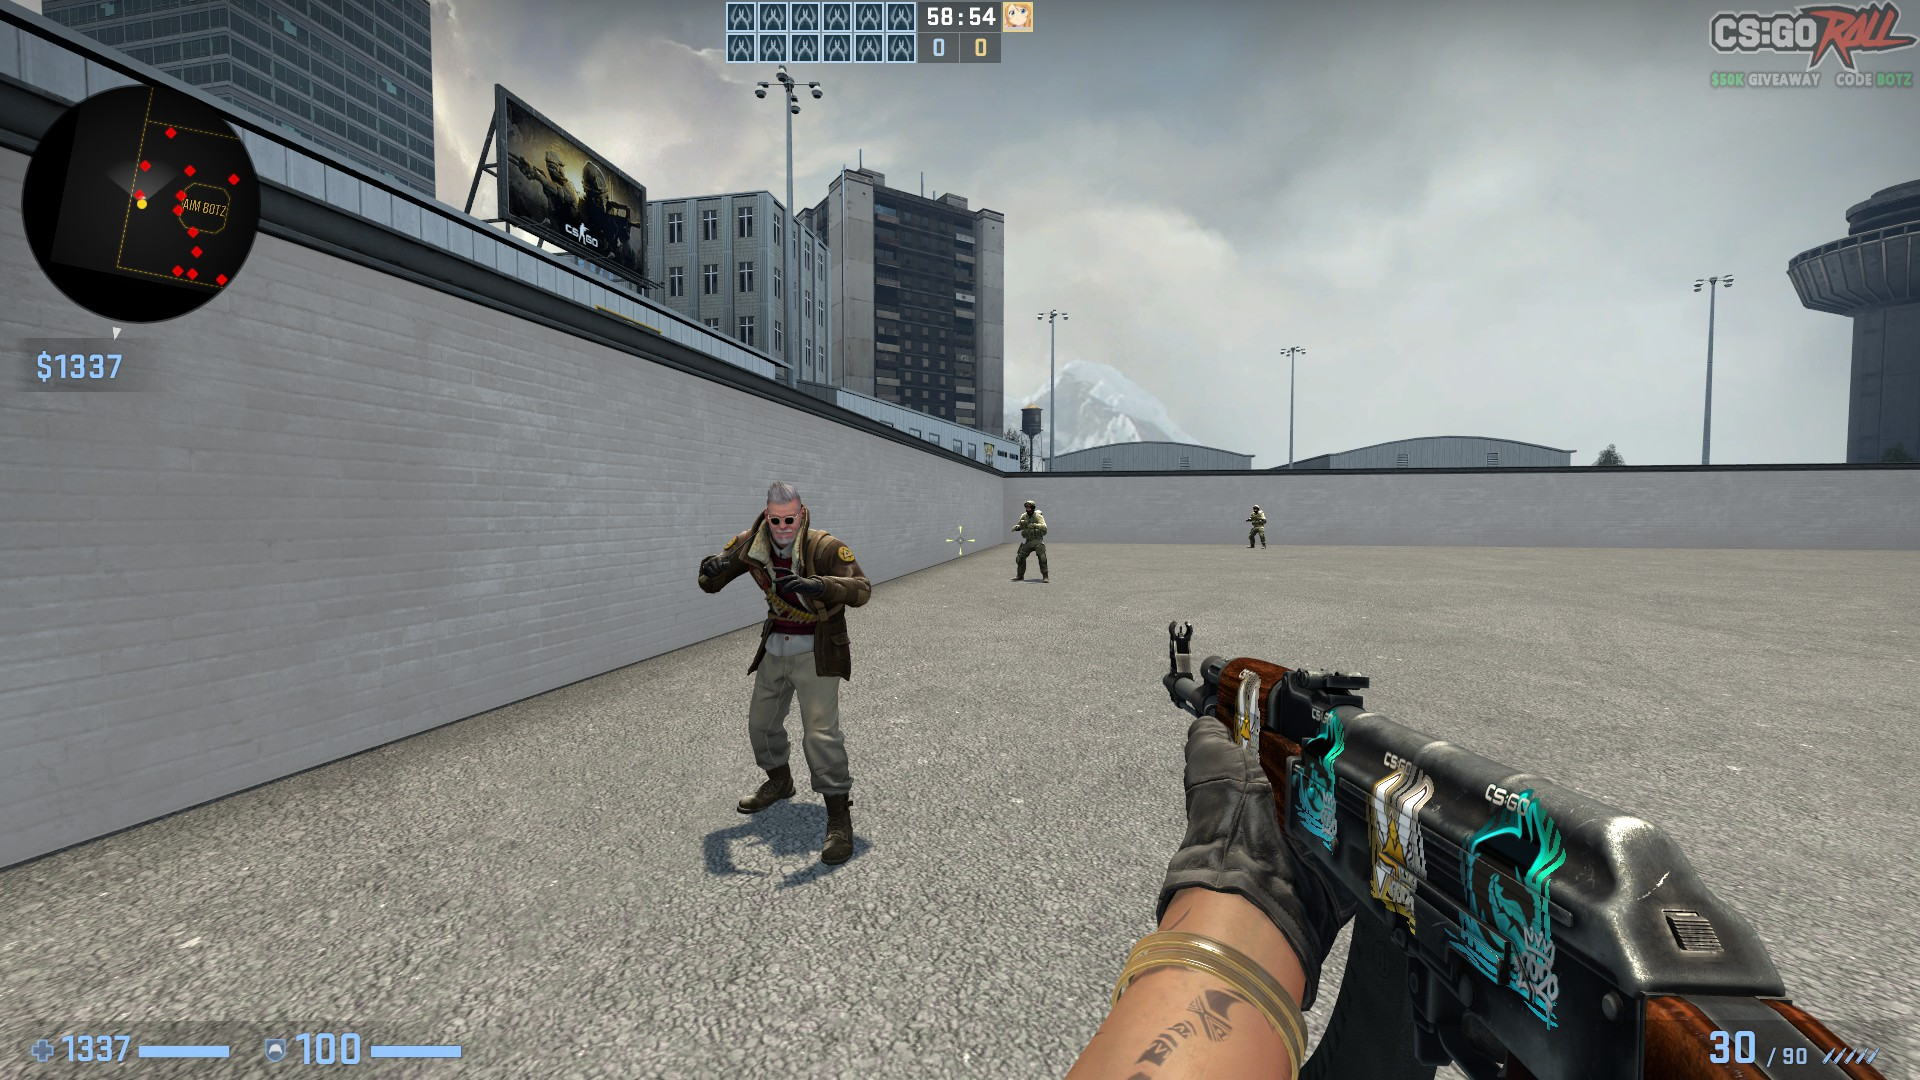head: (763, 481, 800, 540), (1025, 499, 1037, 514), (1252, 502, 1258, 512)
